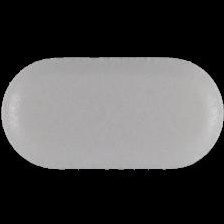54868-4719: (0, 0, 224, 224)
